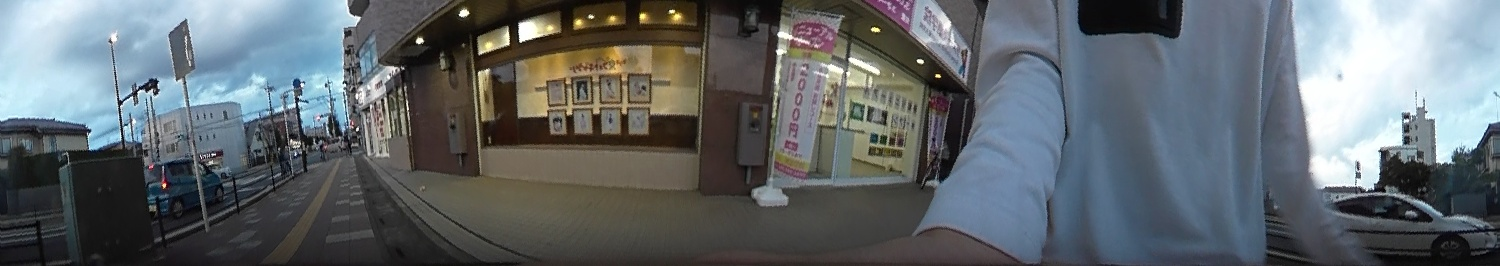difficult_person: (316, 136, 326, 155)
